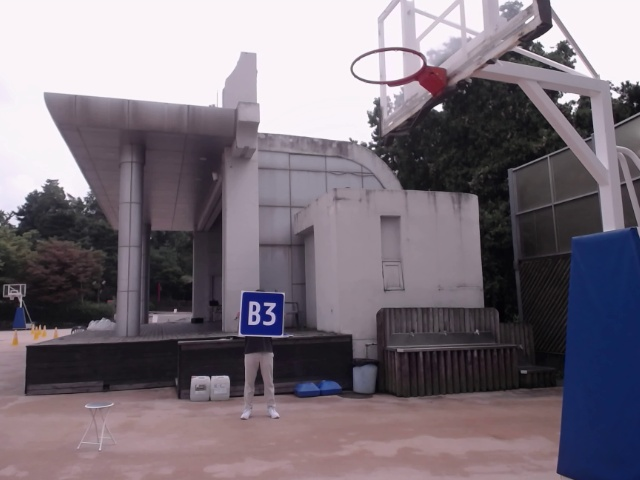delivery_b3: (240, 291, 284, 337)
